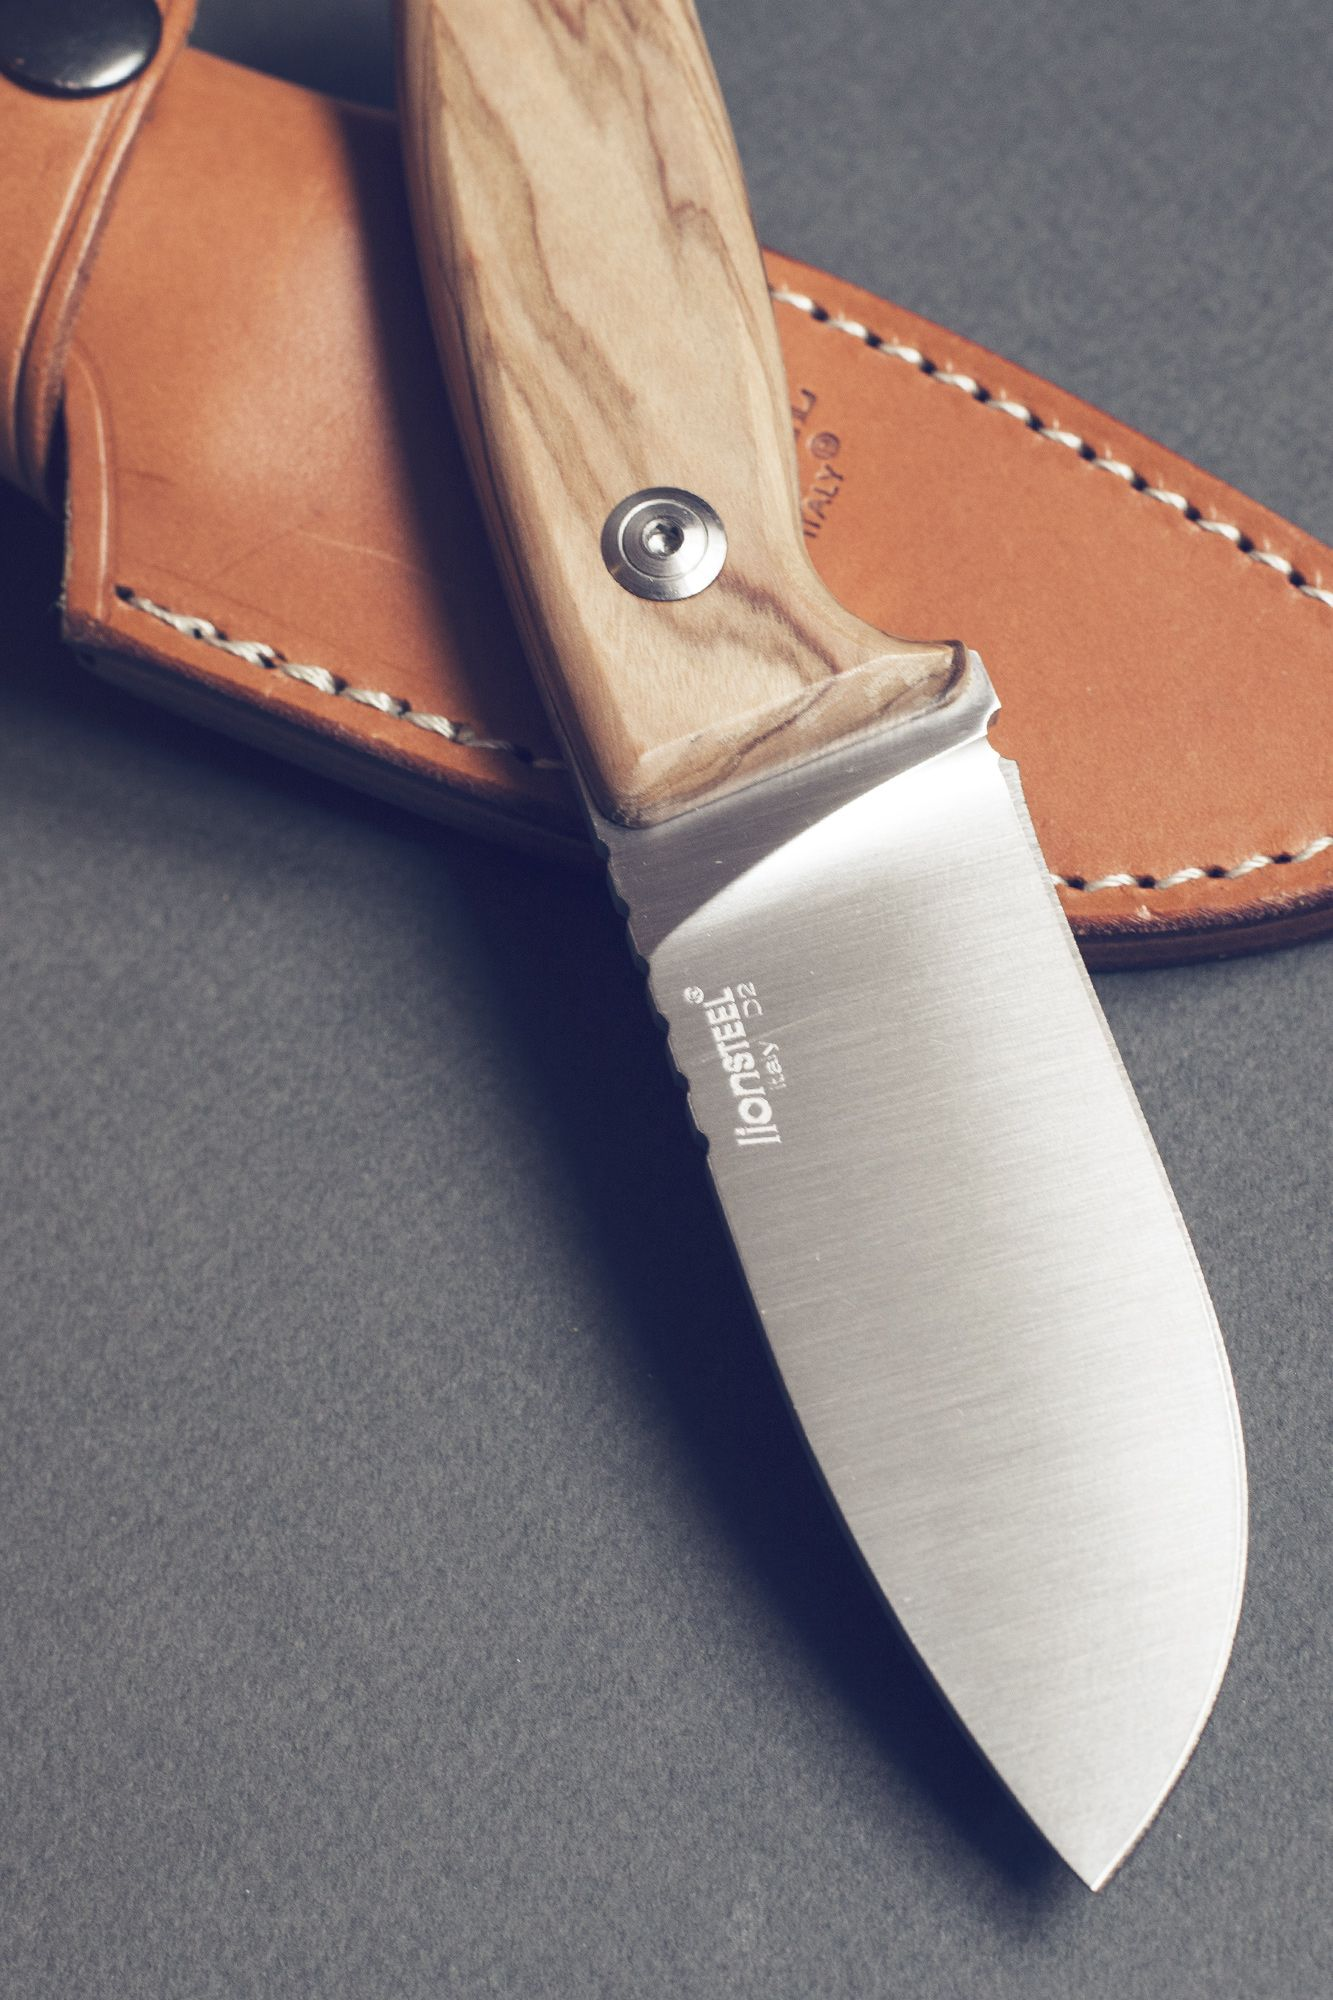knife: (196, 4, 1284, 1938)
